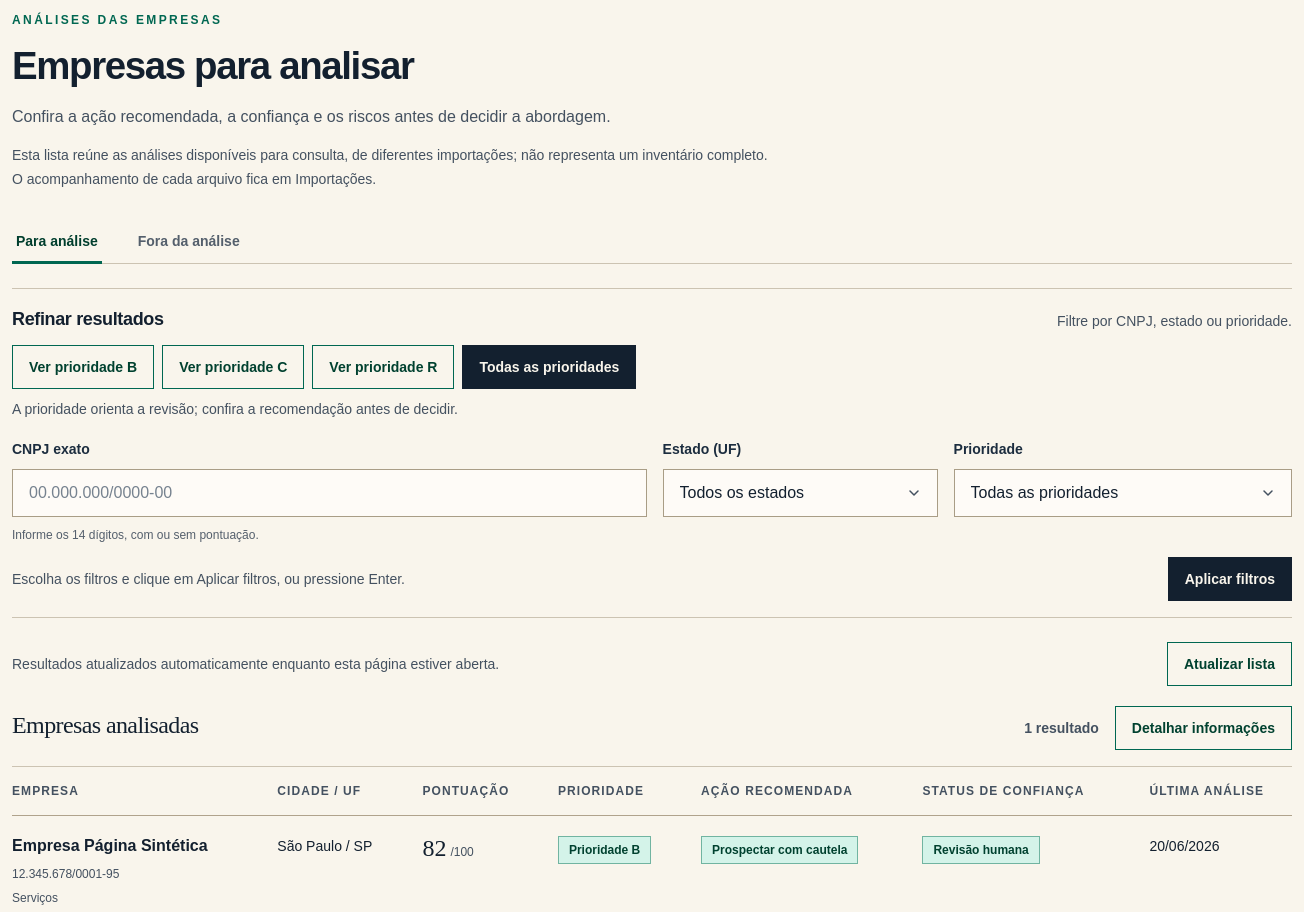
lead list page › clears previous results when a refresh returns an invalid contract
Check: the text "Empresa Página Sintética" is shown, box [12, 837, 208, 854]
Click the button "Atualizar lista" at (1230, 664), box [1167, 642, 1292, 686]
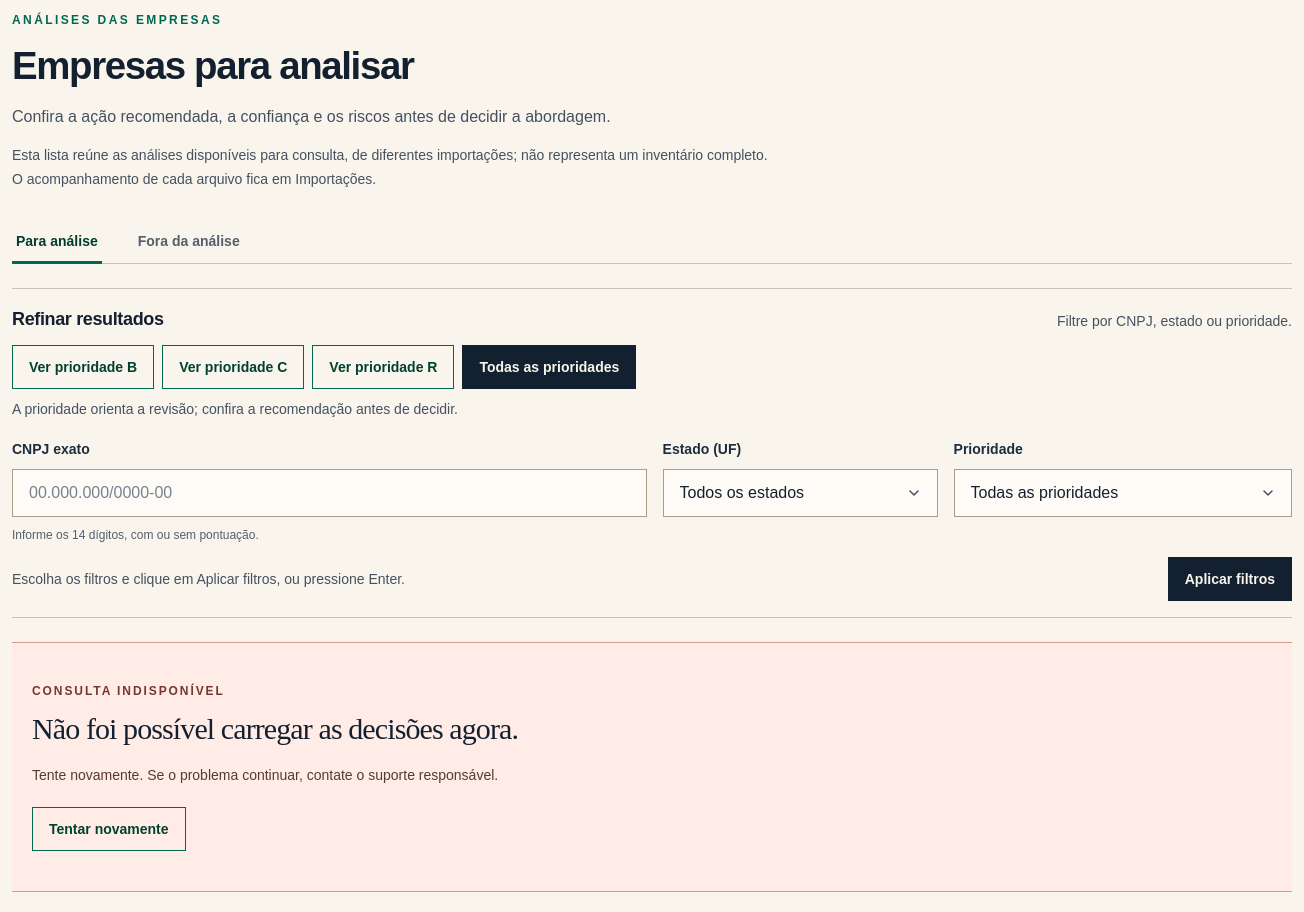
Check: the message is shown, box [12, 642, 1292, 892]
Check: the text "Empresa Página Sintética" is gone
